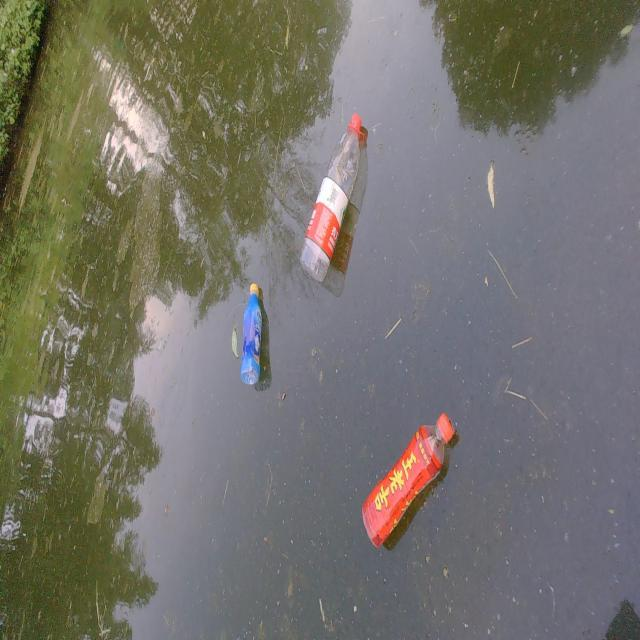garbage: (361, 411, 455, 549), (300, 111, 363, 283), (240, 282, 262, 385), (255, 286, 271, 391)
